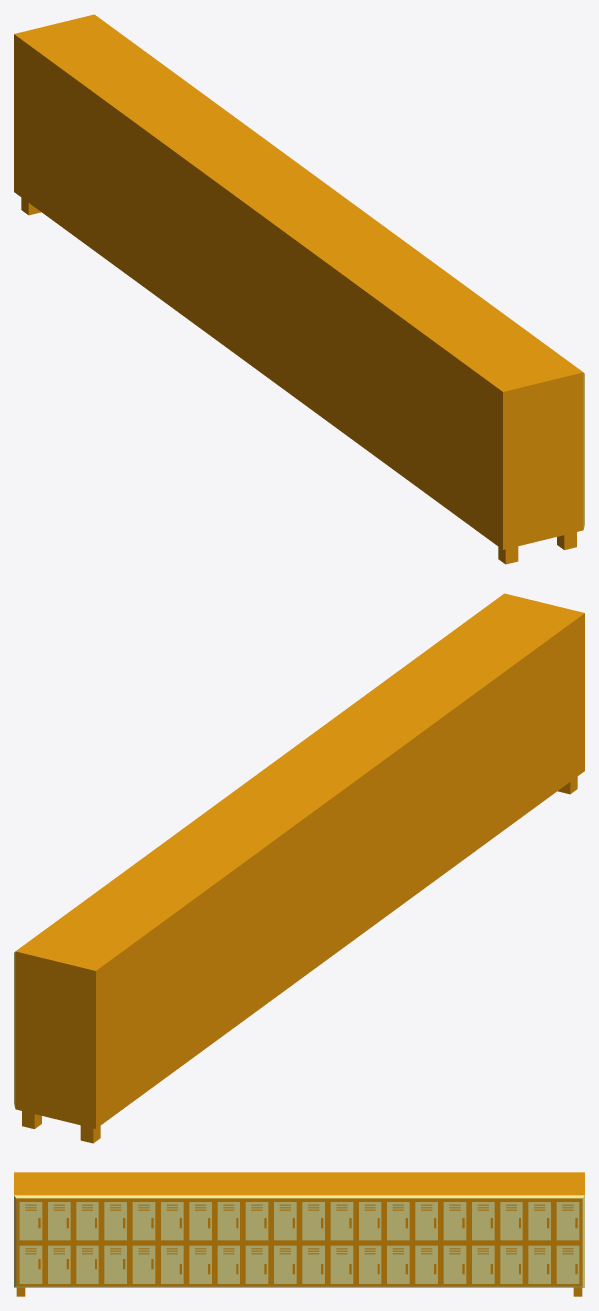
The model's file is 2_Garderobe.fbx.
3 views of the same model, one above another, from view 1: azimuth 30°, elevation 25°; view 2: azimuth 150°, elevation 25°; view 3: azimuth 270°, elevation 25° (orthographic). The views are drawn at different scales.
Visible parts, largest first — view 1: Cube.059; view 2: Cube.059; view 3: Cube.059.
Part boxes in pixels (left/top/right/bottom): Cube.059: left=14, top=14, right=584, bottom=564; Cube.059: left=14, top=593, right=584, bottom=1143; Cube.059: left=14, top=1172, right=584, bottom=1296.
Bounding box in the file's own units: 1010 × 105 × 200.
